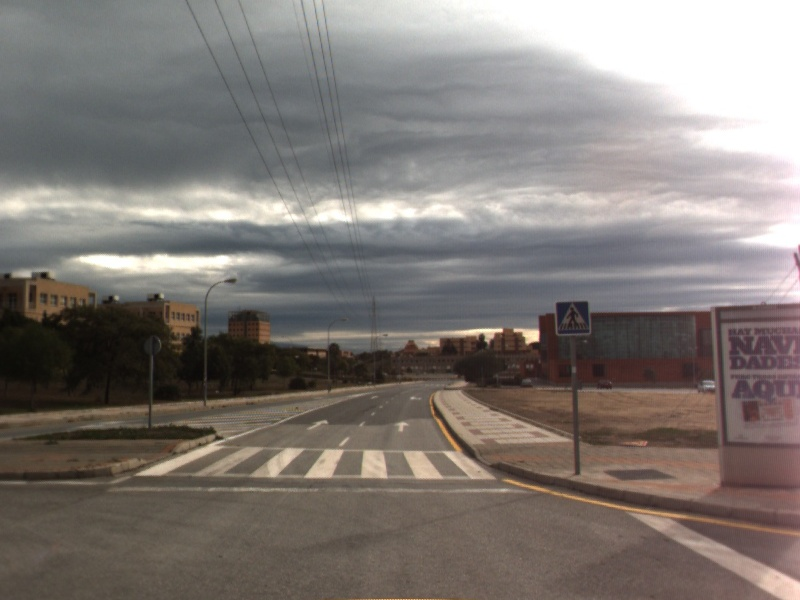STRAIGHT: (304, 418, 330, 432), (392, 419, 411, 433)
